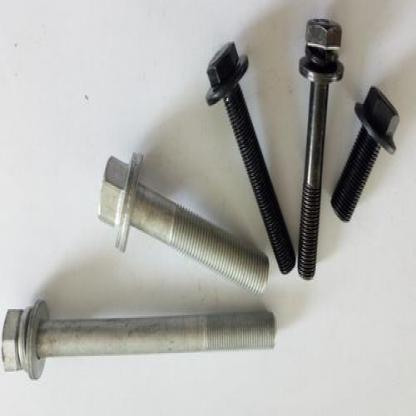FOD: (96, 146, 270, 299), (0, 304, 281, 384), (204, 37, 296, 276), (296, 17, 344, 283), (331, 86, 402, 226)
